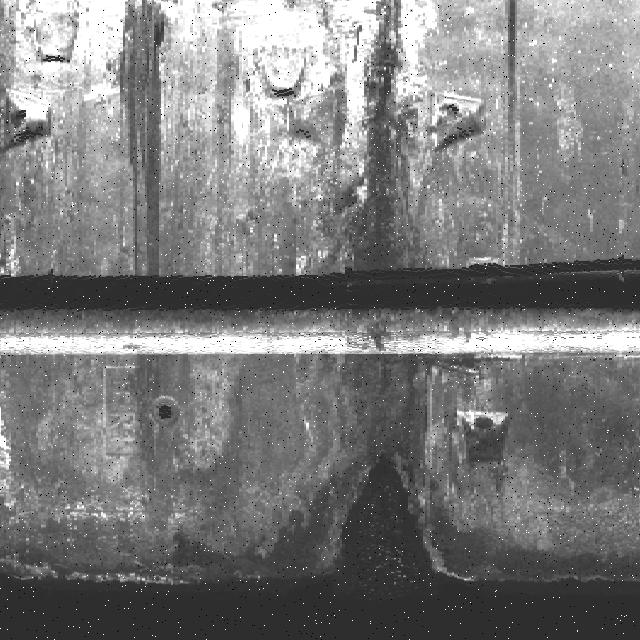leakage: (1, 463, 295, 640), (301, 355, 452, 640), (324, 1, 441, 278), (105, 1, 181, 280), (458, 527, 640, 640)
